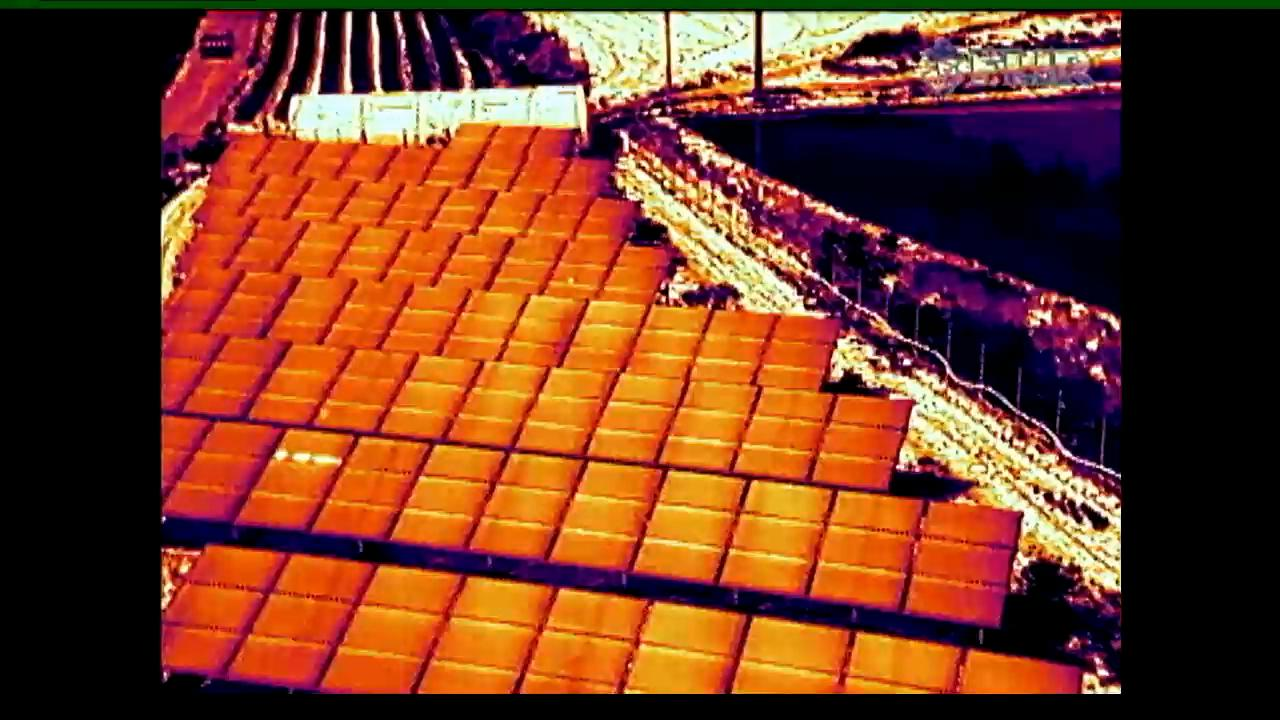hotspot: (235, 425, 357, 550), (531, 239, 624, 307)
